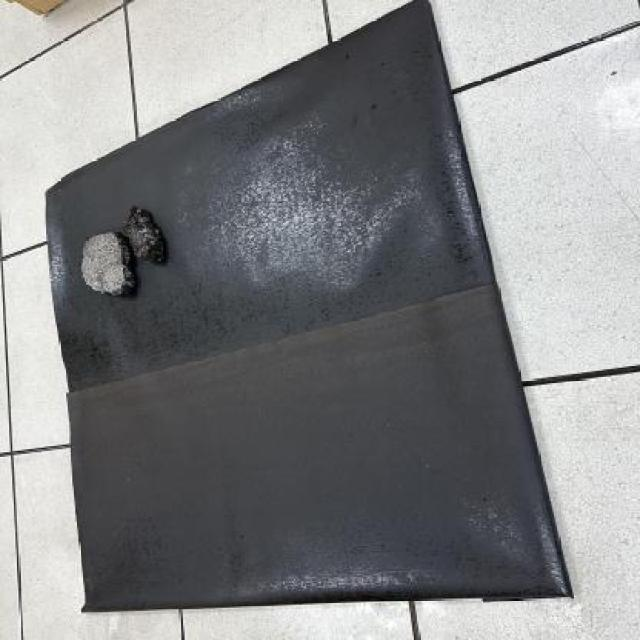Road Debris: (127, 204, 167, 267), (95, 232, 128, 292)
